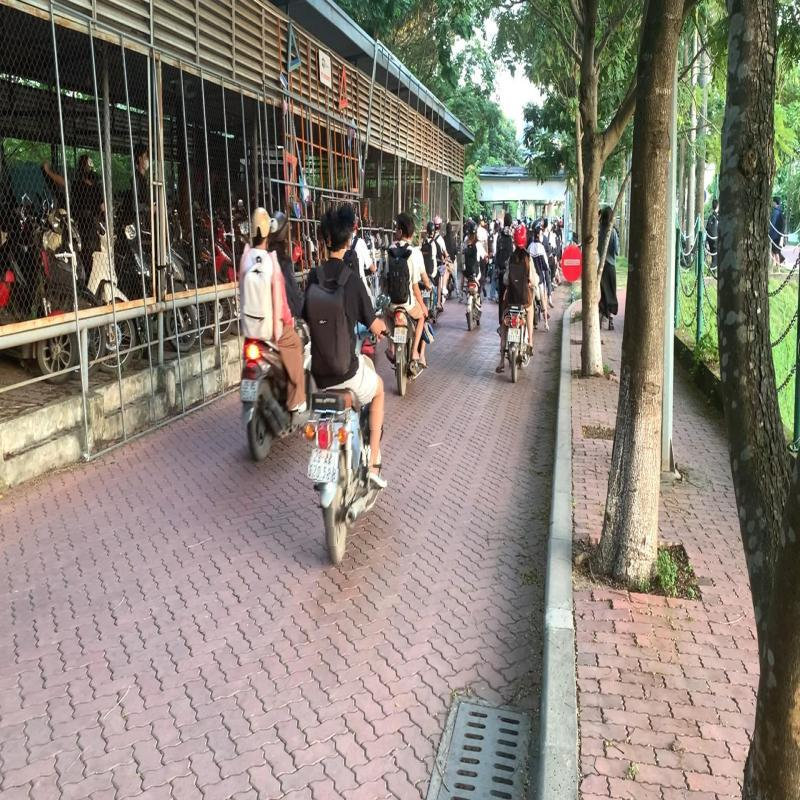licenseplate: (308, 449, 336, 482)
motorcyclist: (292, 198, 397, 567)
nohelmet: (328, 202, 356, 249)
